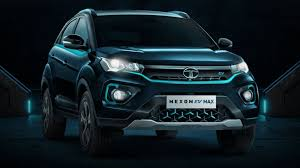Tata Nexon: (38, 9, 260, 155)
